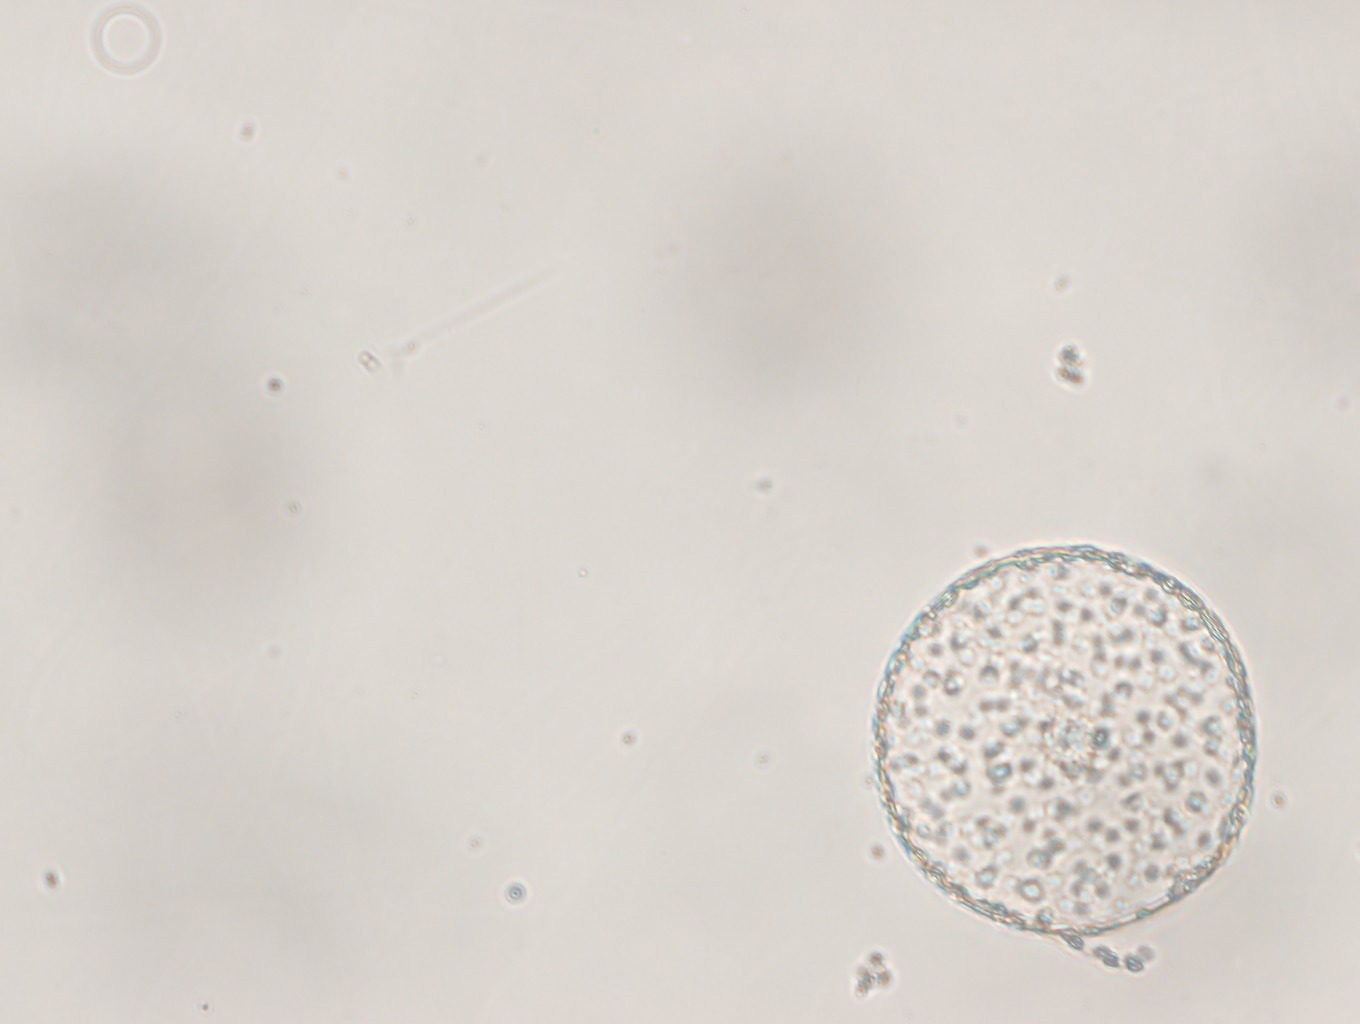coscinodiscus: (861, 543, 1268, 980)
